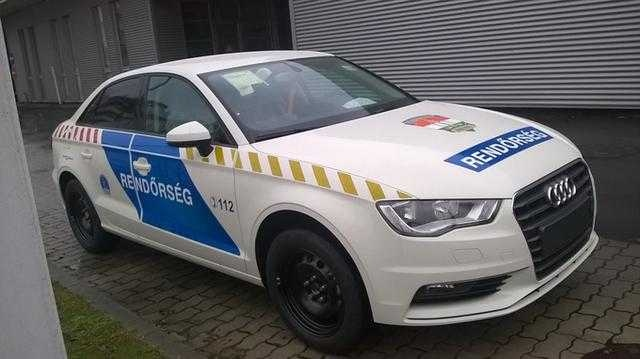Police Car: (37, 28, 607, 333)
